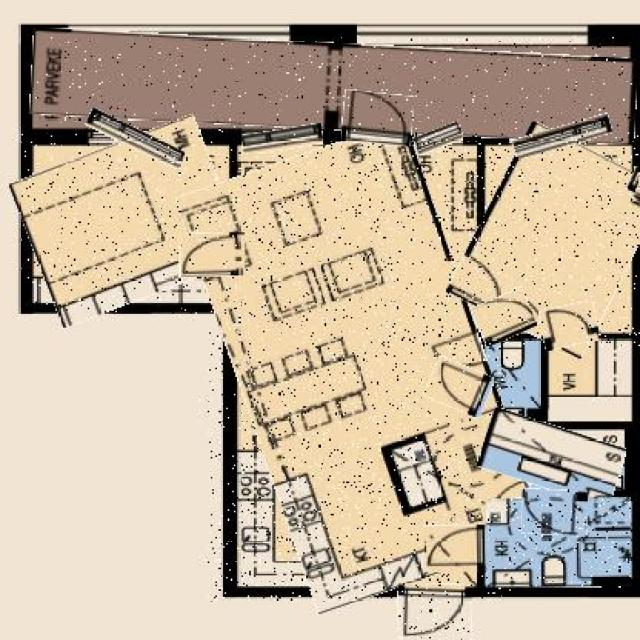door: (397, 583, 472, 640), (341, 90, 414, 144), (426, 361, 492, 414), (474, 290, 535, 342), (425, 525, 489, 572), (522, 489, 588, 534), (178, 234, 244, 277), (540, 303, 598, 349)
window: (85, 118, 186, 158), (514, 120, 612, 152), (242, 126, 323, 152), (414, 126, 461, 151), (627, 166, 640, 190)
zone: (208, 134, 514, 601), (29, 35, 637, 137), (20, 129, 237, 314), (463, 132, 640, 346), (486, 498, 631, 588), (480, 418, 625, 498)
